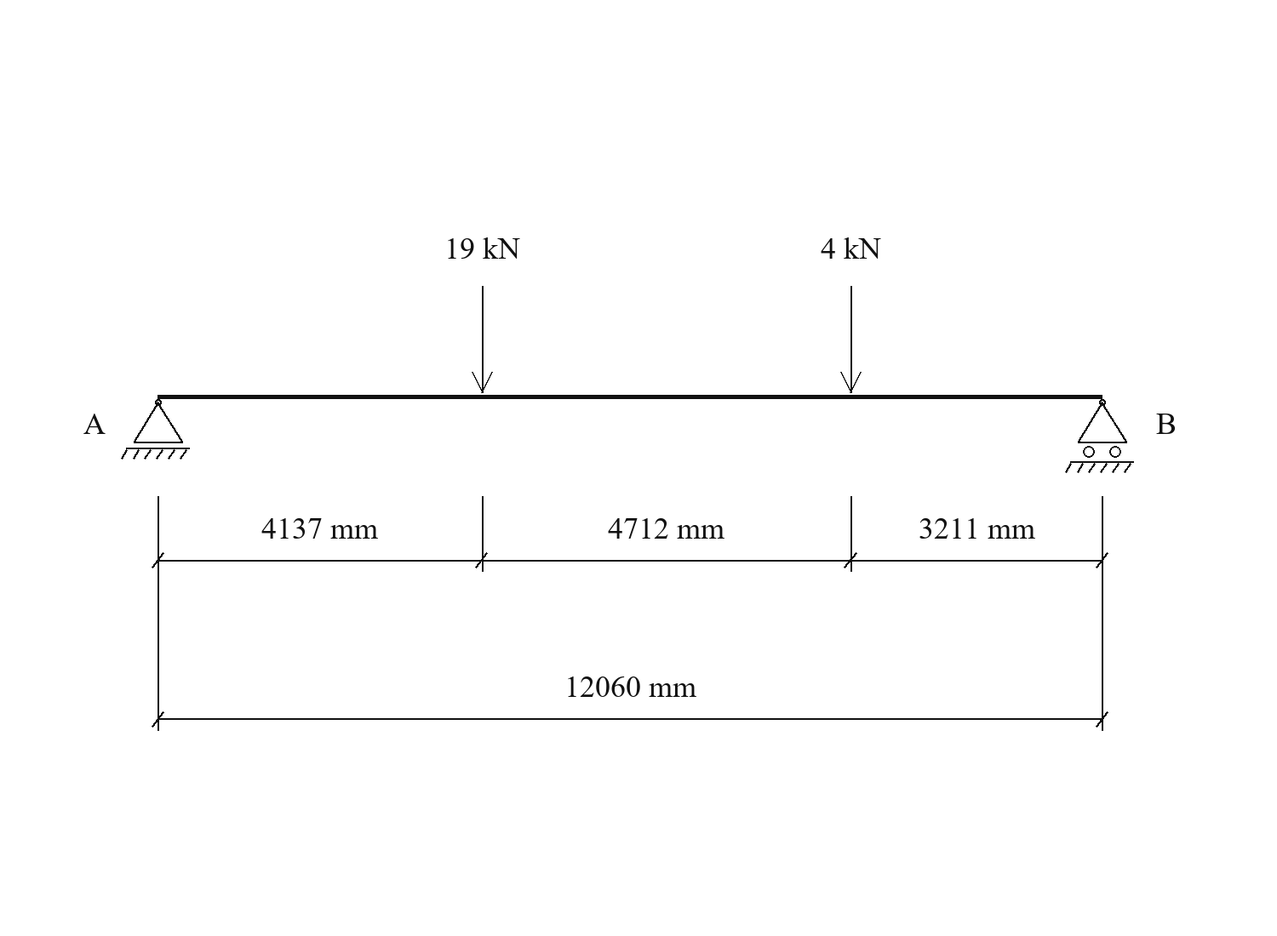pin_support: (121, 399, 190, 459)
point_load: (840, 286, 862, 393), (472, 286, 493, 393)
roller_support: (1065, 399, 1134, 473)
